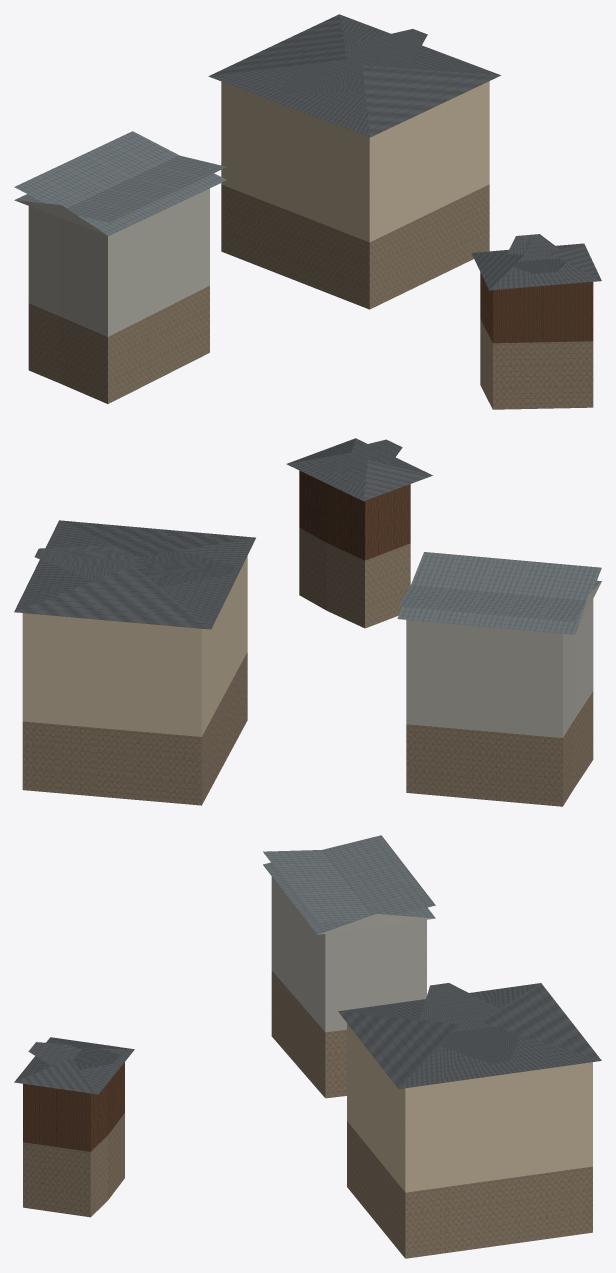
File: bld_c14_24_400.gltf
The picture shows the model from 3 angles, top to bottom: view 1: azimuth 30°, elevation 25°; view 2: azimuth 150°, elevation 25°; view 3: azimuth 270°, elevation 25°; orthographic projection. The views are drawn at different scales.
Visible parts, largest first — view 1: bld_c14_24_400; view 2: bld_c14_24_400; view 3: bld_c14_24_400.
Boxes of the visible parts, x1,y1,x2,y2 form: bld_c14_24_400: [14, 14, 601, 409]; bld_c14_24_400: [14, 438, 601, 806]; bld_c14_24_400: [14, 835, 601, 1258].
Size of the model in its own units: 39.44 by 14.6 by 41.11.
7 materials, 7 textured.
